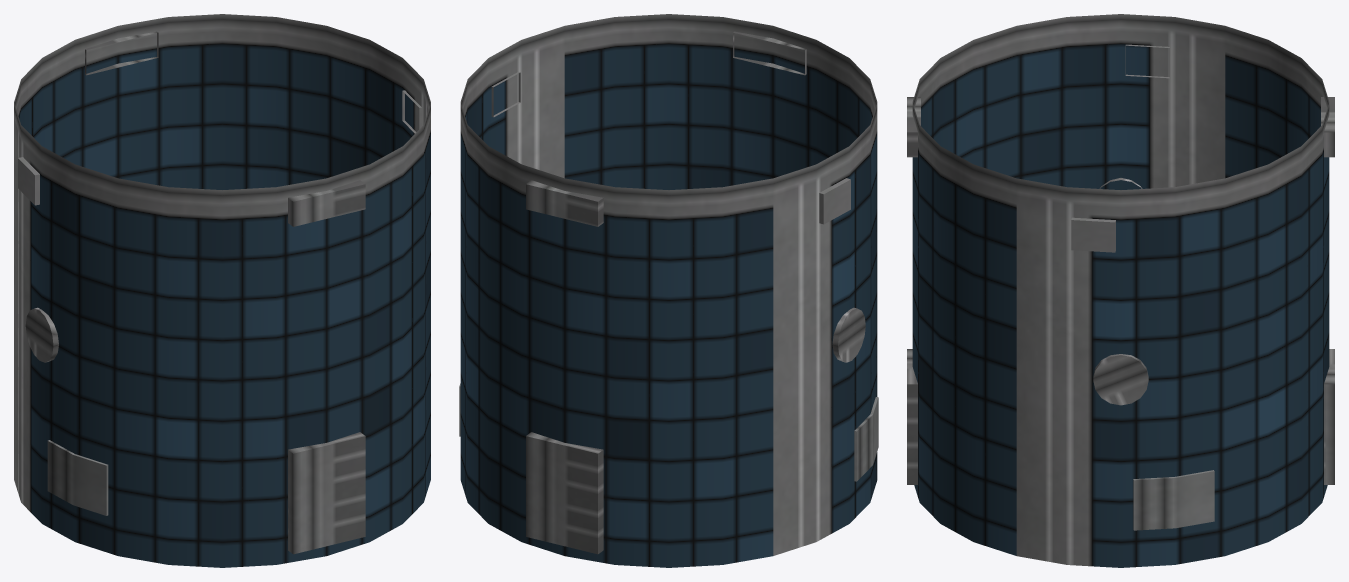
The model's file is basic 1p5 crew.obj.
The picture shows the model from 3 angles, left to right: view 1: azimuth 30°, elevation 25°; view 2: azimuth 150°, elevation 25°; view 3: azimuth 270°, elevation 25°; orthographic projection.
Parts seen in each view (by area): view 1: 1; view 2: 1; view 3: 1.
Boxes of the visible parts, x1=… form: 1: x1=14, y1=14, x2=430, y2=567; 1: x1=459, y1=14, x2=878, y2=567; 1: x1=907, y1=14, x2=1334, y2=567.
Bounding box in the file's own units: 1.92 × 1.88 × 1.92.
